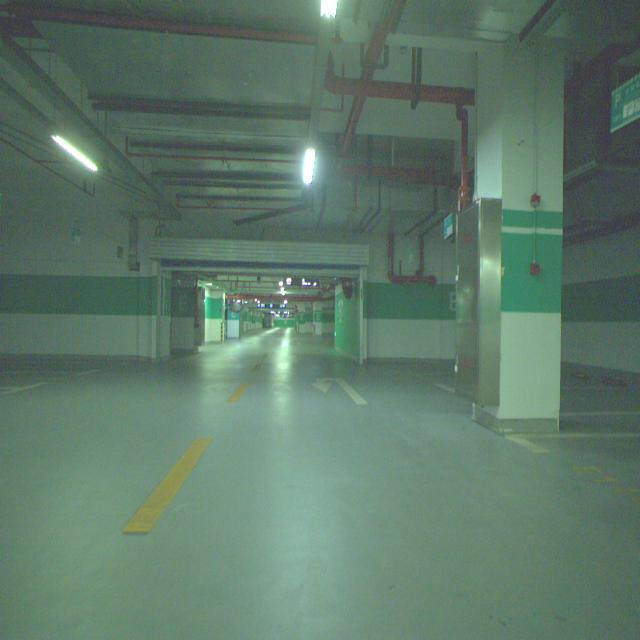pillar: (475, 39, 564, 430)
